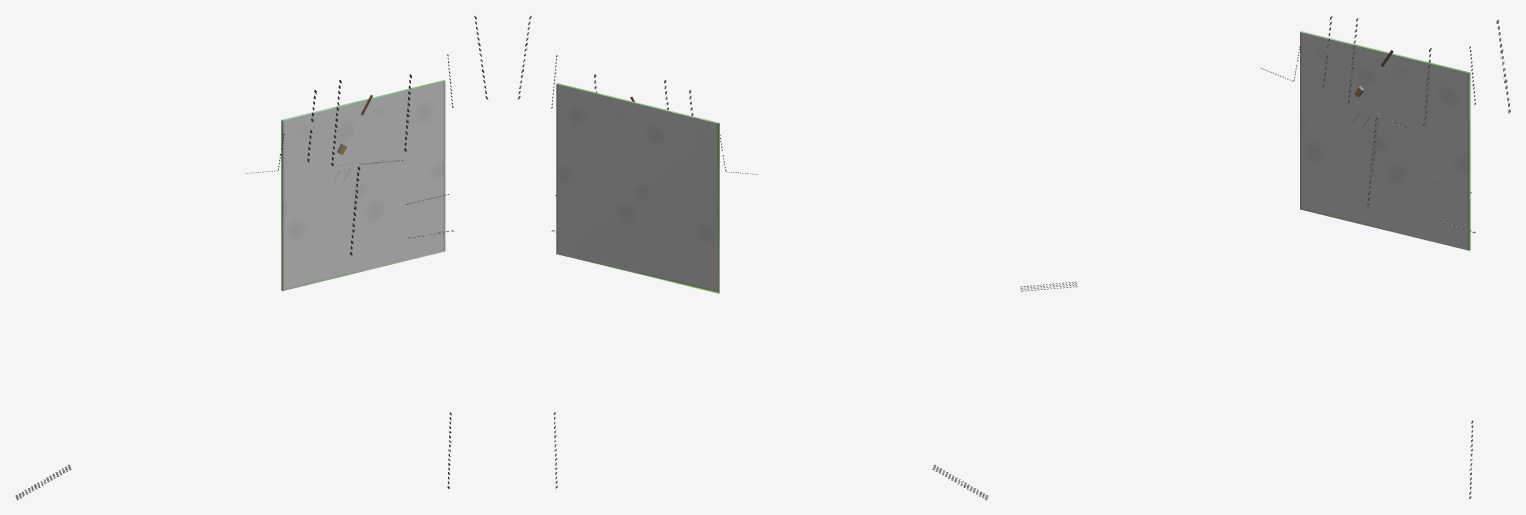
The picture shows the model from 3 angles, left to right: view 1: azimuth 30°, elevation 25°; view 2: azimuth 150°, elevation 25°; view 3: azimuth 330°, elevation 25°; orthographic projection. The views are drawn at different scales.
Visible parts, largest first — view 1: POLYGON, FONT; view 2: POLYGON, FONT; view 3: POLYGON, FONT.
Part boxes in pixels (x1,y1,x2,y2): POLYGON: (281, 80, 445, 290); FONT: (15, 16, 488, 500); POLYGON: (556, 83, 719, 293); FONT: (518, 16, 988, 500); POLYGON: (1300, 31, 1470, 250); FONT: (1020, 16, 1510, 498).
Size of the model in its own units: 1768 by 1679 by 28.
Materials: 3 (3 with a texture image).
